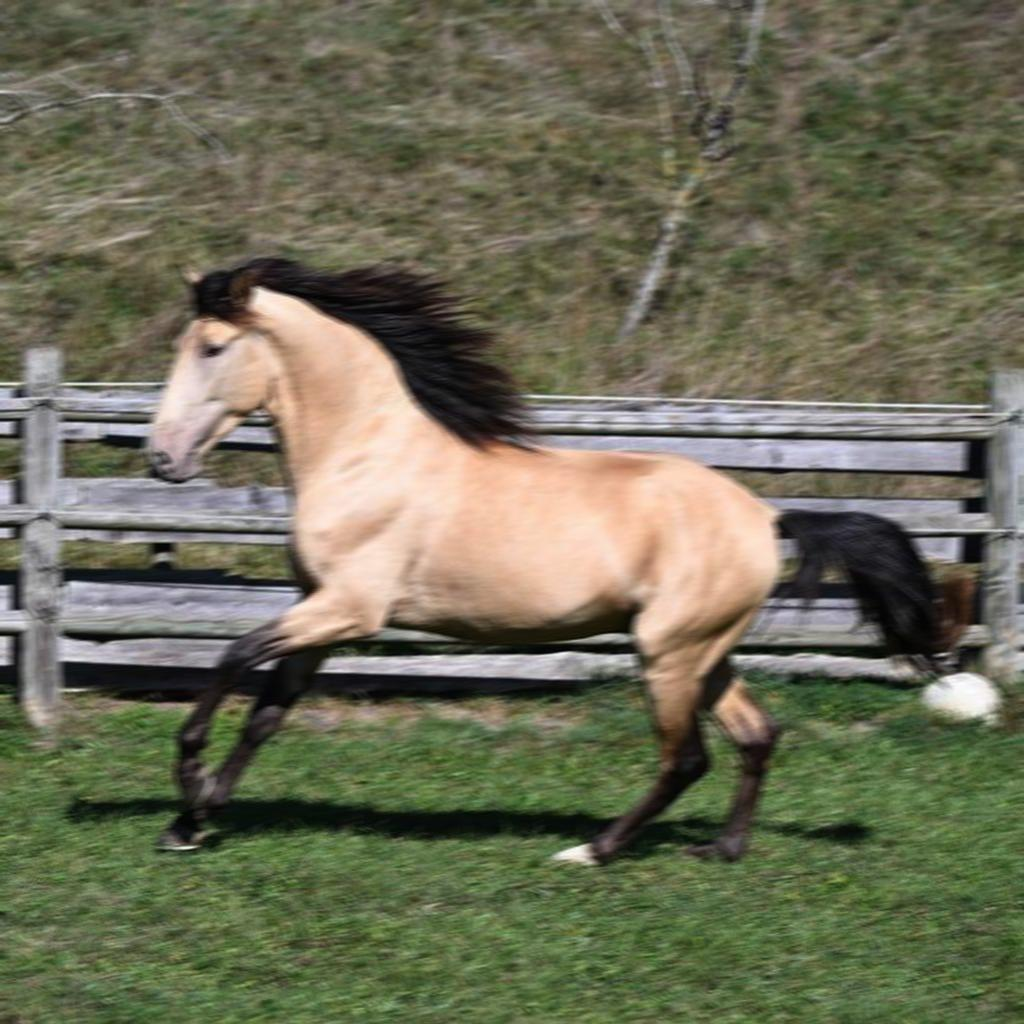horse: (142, 253, 980, 869)
